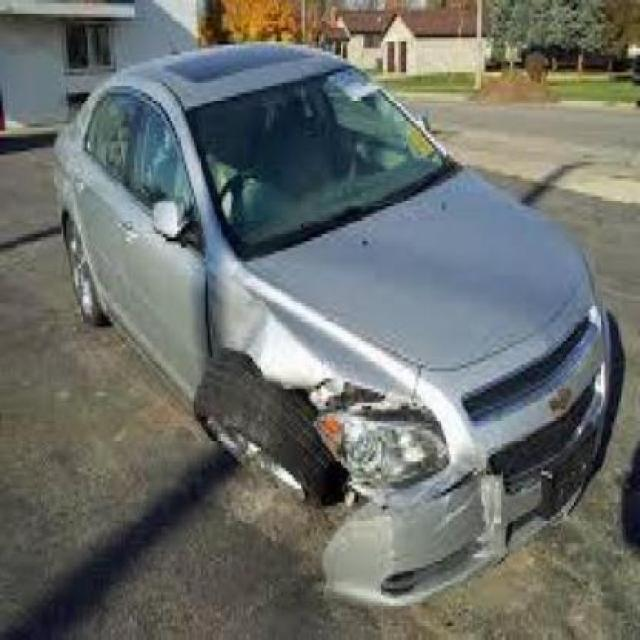damage: (205, 251, 563, 594)
